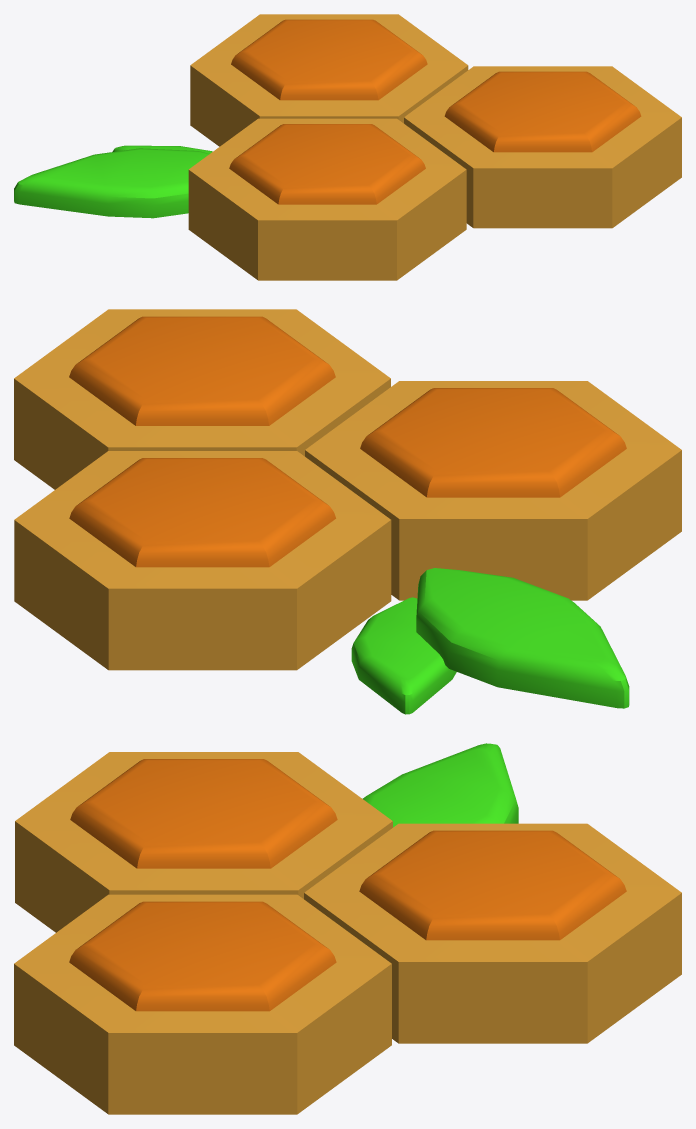
File: honeycomb.fbx
3 renders of one model, top to bottom at view 1: azimuth 30°, elevation 25°; view 2: azimuth 150°, elevation 25°; view 3: azimuth 270°, elevation 25°, orthographic. The views are drawn at different scales.
Visible parts, largest first — view 1: Circle.002; view 2: Circle.002; view 3: Circle.002.
Part boxes in pixels (x1=…): Circle.002: x1=14, y1=14, x2=681, y2=280; Circle.002: x1=14, y1=309, x2=681, y2=714; Circle.002: x1=14, y1=743, x2=681, y2=1114.
Bounding box in the file's own units: 59.79 × 9.69 × 48.41.
